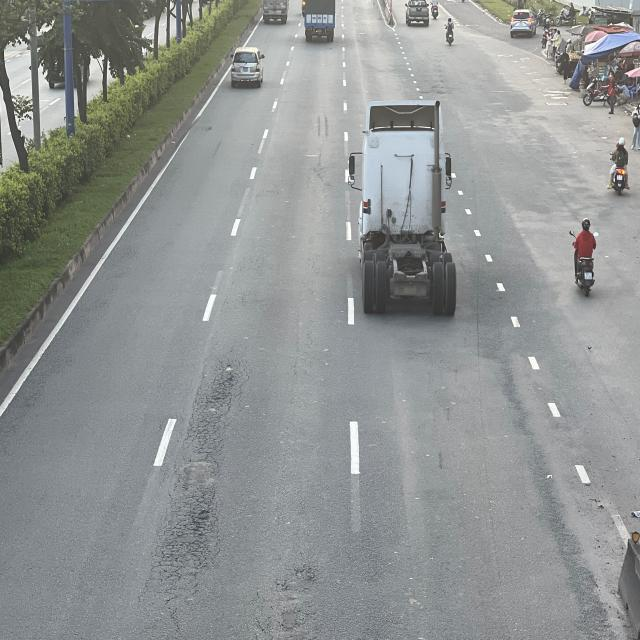car: (228, 46, 264, 88), (509, 10, 538, 39), (406, 0, 429, 26)
container: (347, 99, 456, 316)
truck: (304, 0, 340, 43)
